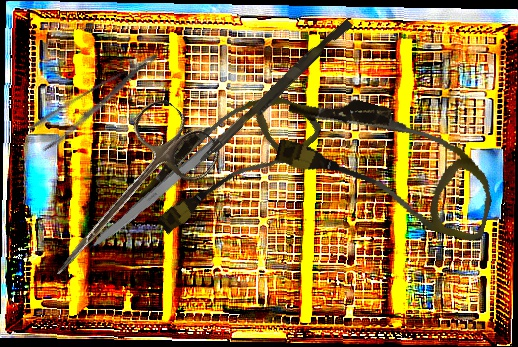Cannula: (267, 83, 509, 244), (125, 63, 326, 252)
Dressing Forceps: (26, 49, 173, 154)
Iris Scissors: (26, 91, 227, 307)
Pusher: (191, 14, 353, 177)
Scalpel Handle: (84, 119, 245, 256)
